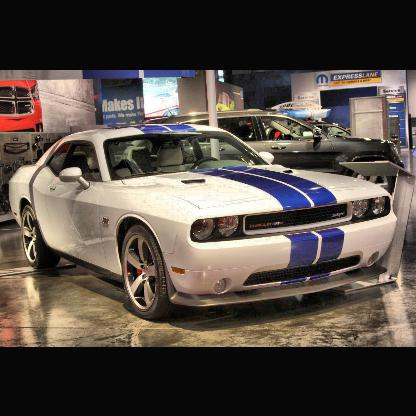Dodge Challenger SRT8 2011: (9, 123, 404, 318)
